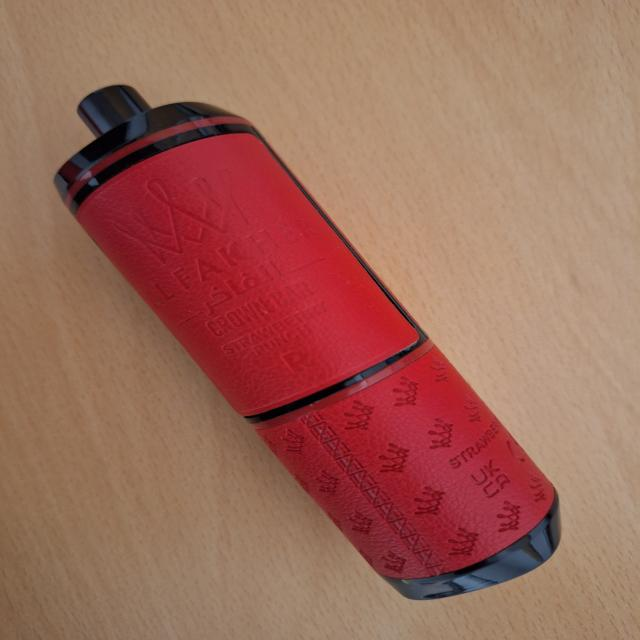Hazard: (52, 83, 563, 601)
